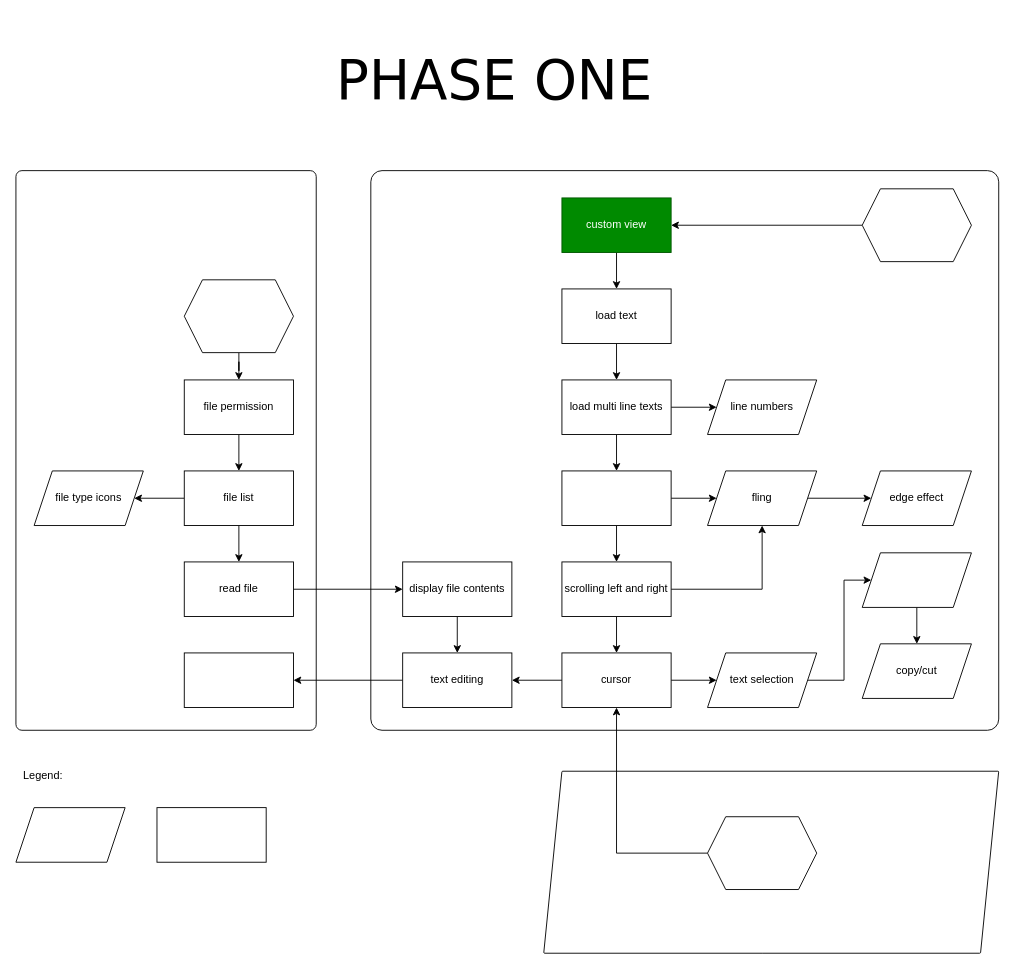
Some shapes in this 1015 by 969 pixel diagram are drawn without their labels. Here are the shapes that lost their labels. From the top down, the centre of each, then its label:
the point at 916,225: EDITOR
the point at 238,316: FILE MANAGER
the point at 616,498: scrolling up and down
the point at 916,579: paste
the point at 238,680: save file
the point at 70,834: optional
the point at 211,834: required
the point at 762,853: KEYBOARD
